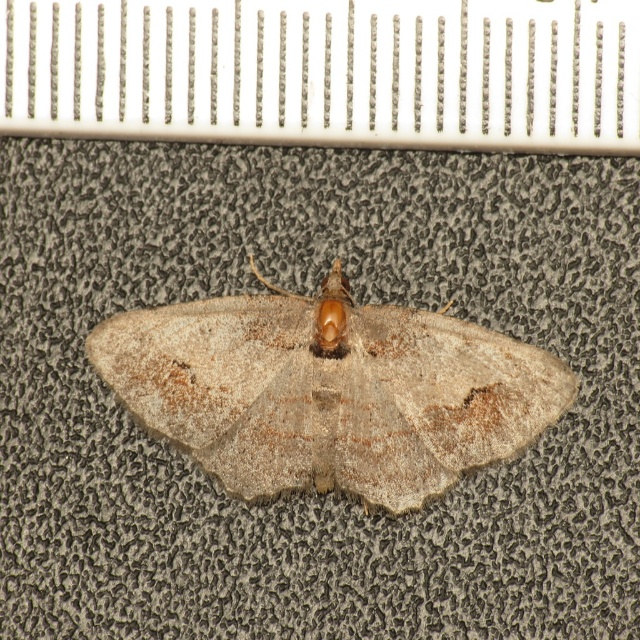Moths and butterflies: (85, 256, 575, 531)
